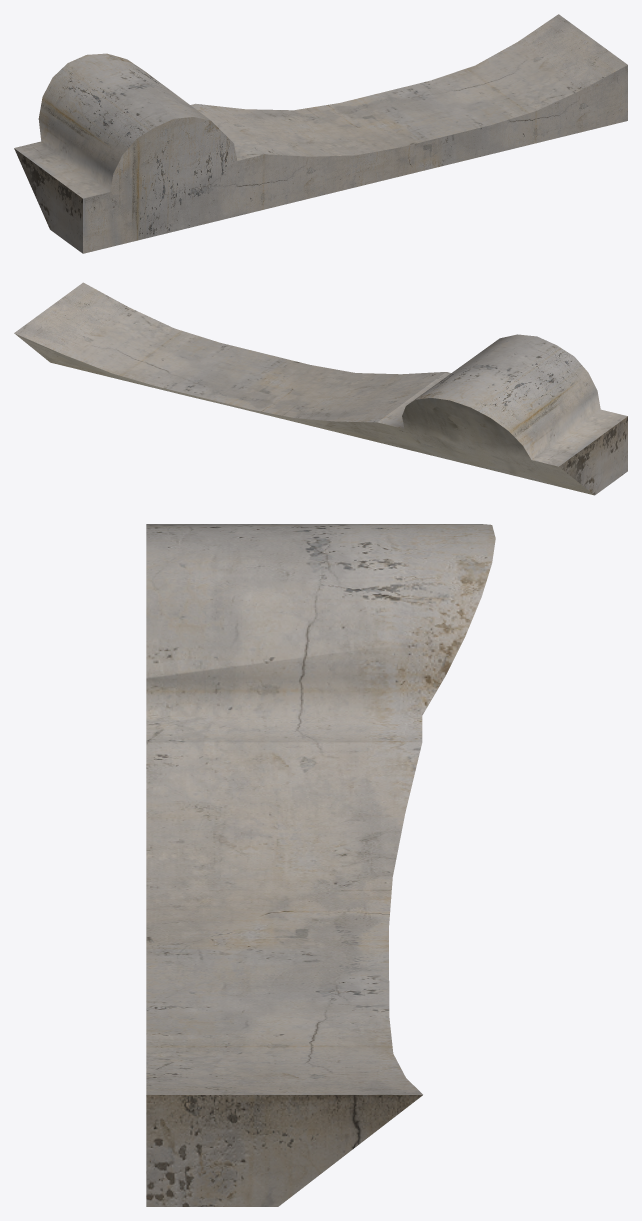
Rendered from yanesasae.fbx.
3 views of the same model, one above another, from view 1: azimuth 30°, elevation 25°; view 2: azimuth 150°, elevation 25°; view 3: azimuth 270°, elevation 25° (orthographic). The views are drawn at different scales.
Visible parts, largest first — view 1: gaiheki_wall:GaihekiWall; view 2: gaiheki_wall:GaihekiWall; view 3: gaiheki_wall:GaihekiWall.
Part boxes in pixels (box(x1,y1,x2,y2)): gaiheki_wall:GaihekiWall: box(14, 14, 627, 253); gaiheki_wall:GaihekiWall: box(14, 282, 627, 495); gaiheki_wall:GaihekiWall: box(146, 524, 495, 1206).
Bounding box in the file's own units: 150 × 29.68 × 41.69.
